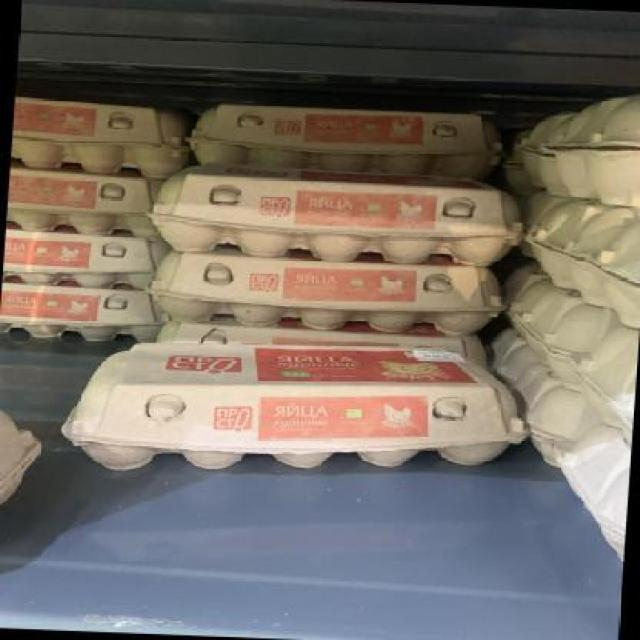Egg: (57, 335, 535, 479), (153, 161, 530, 268), (146, 251, 509, 339), (181, 100, 511, 179)
